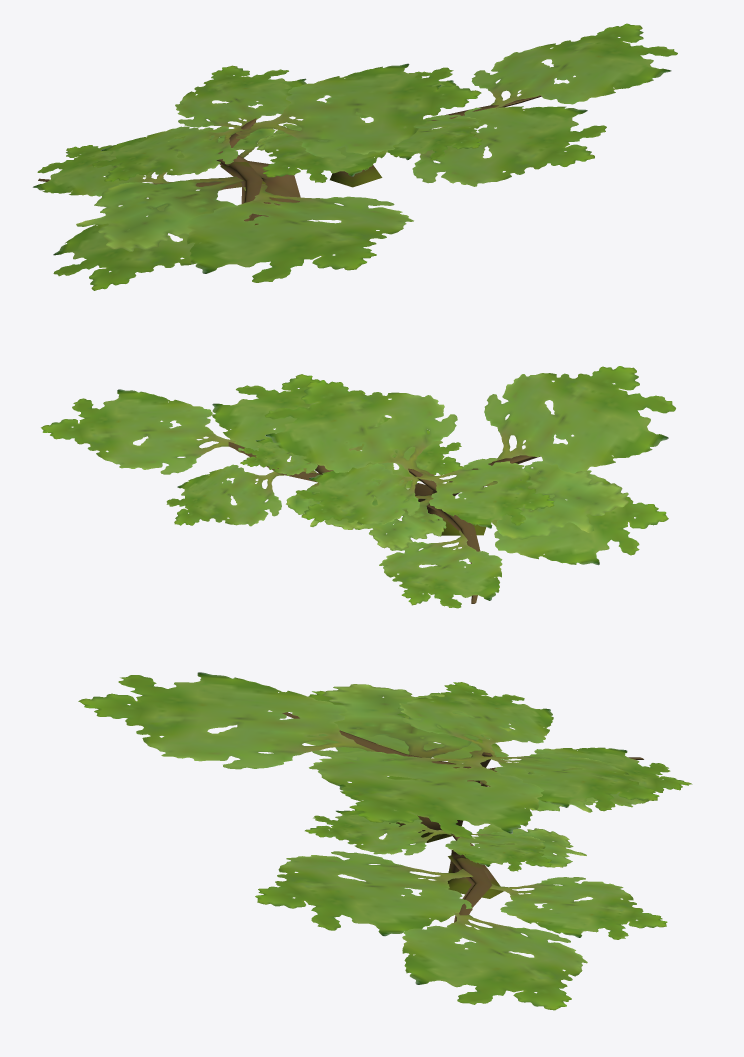
The model's file is liemo_plant_07 (14) #46160126.fbx.
The picture shows the model from 3 angles, top to bottom: view 1: azimuth 30°, elevation 25°; view 2: azimuth 150°, elevation 25°; view 3: azimuth 270°, elevation 25°; orthographic projection. The views are drawn at different scales.
Parts seen in each view (by area): view 1: liemo_plant_07 (14); view 2: liemo_plant_07 (14); view 3: liemo_plant_07 (14).
Part boxes in pixels (x1,y1,x2,y2): liemo_plant_07 (14): (32, 23, 677, 290); liemo_plant_07 (14): (41, 366, 675, 608); liemo_plant_07 (14): (78, 672, 692, 1010).
Size of the model in its own units: 26.3 by 3.66 by 19.15.
